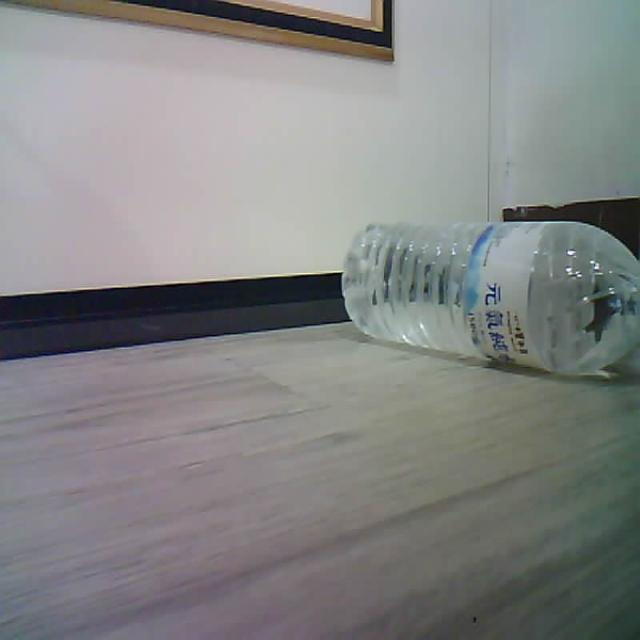bottle: (342, 221, 639, 373)
